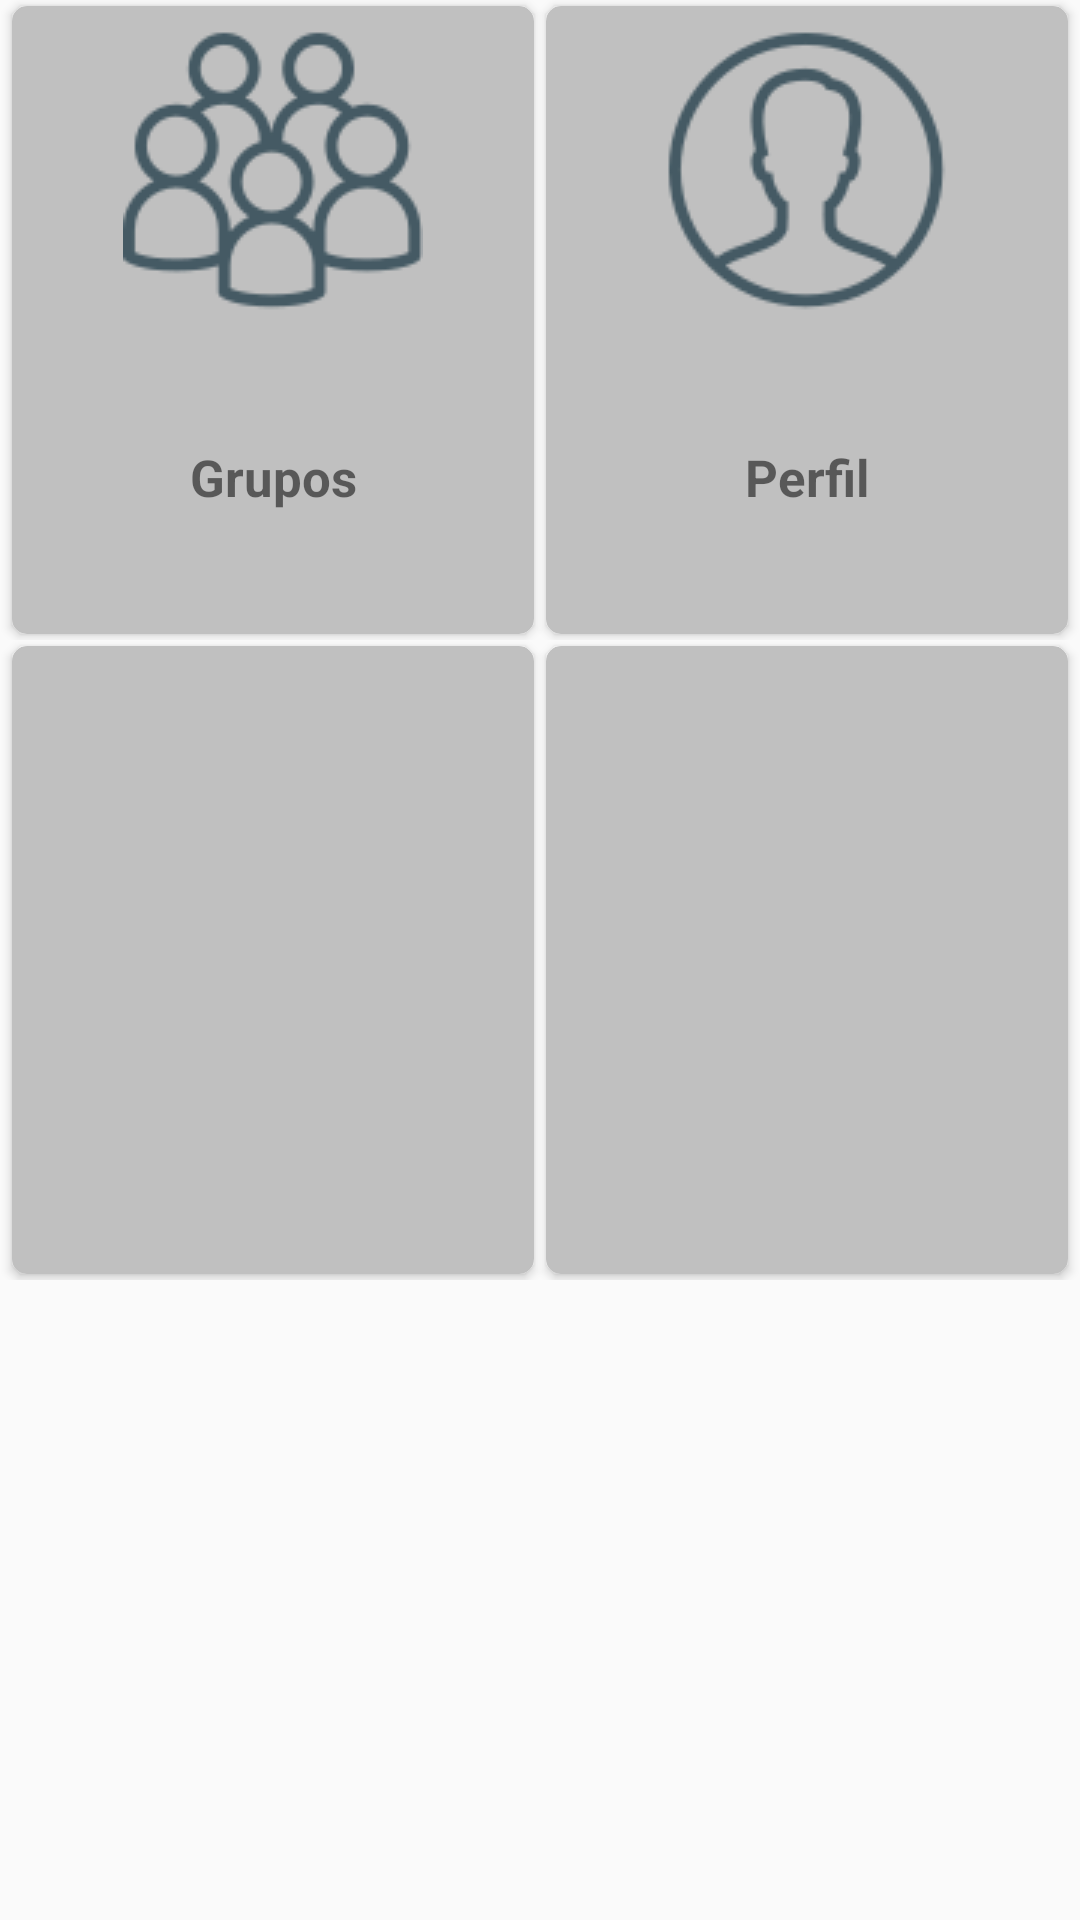

Screen size 1080 x 1920. Icon name, then its box in pixels as (x1, y1, x2, y2):
profile: (668, 32, 944, 308)
